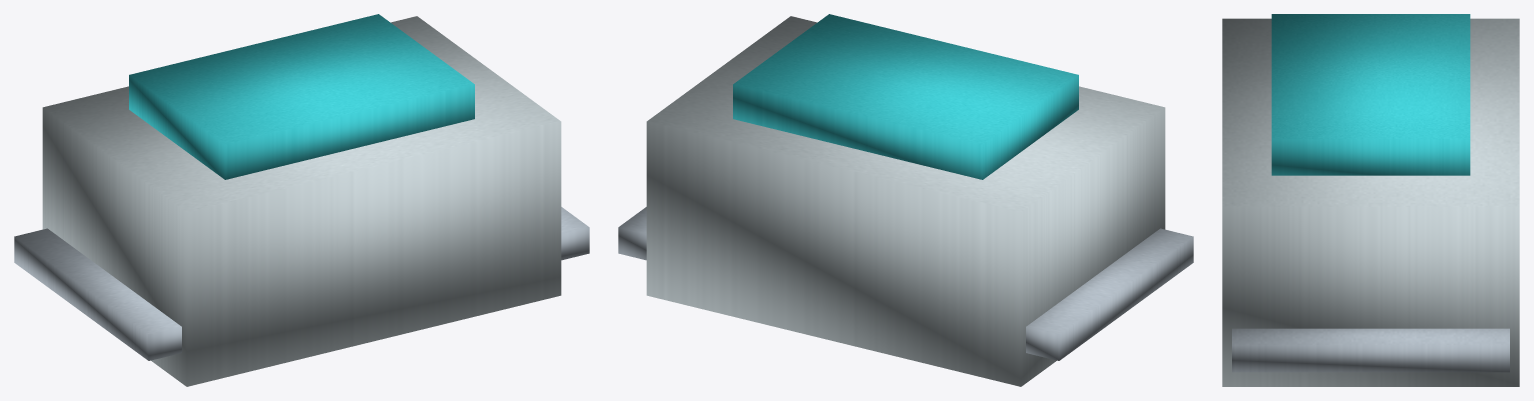
File: 274_L121_LED4.obj
The picture shows the model from 3 angles, left to right: view 1: azimuth 30°, elevation 25°; view 2: azimuth 150°, elevation 25°; view 3: azimuth 270°, elevation 25°; orthographic projection. The views are drawn at different scales.
Parts seen in each view (by area): view 1: connector_white__PSMAT__connector_white, led_cyan__PSMAT__led_cyan, tin__PSMAT__tin; view 2: connector_white__PSMAT__connector_white, led_cyan__PSMAT__led_cyan, tin__PSMAT__tin; view 3: connector_white__PSMAT__connector_white, led_cyan__PSMAT__led_cyan, tin__PSMAT__tin.
Part boxes in pixels (x1,y1,x2,y2): connector_white__PSMAT__connector_white: (42, 16, 561, 386); led_cyan__PSMAT__led_cyan: (129, 14, 474, 179); tin__PSMAT__tin: (14, 207, 589, 360); connector_white__PSMAT__connector_white: (646, 16, 1165, 386); led_cyan__PSMAT__led_cyan: (733, 14, 1078, 179); tin__PSMAT__tin: (618, 207, 1193, 360); connector_white__PSMAT__connector_white: (1222, 18, 1519, 386); led_cyan__PSMAT__led_cyan: (1271, 14, 1470, 175); tin__PSMAT__tin: (1232, 328, 1509, 372).
Bounding box in the file's own units: 0.0053 × 0.0024 × 0.003.
3 materials, 3 textured.
